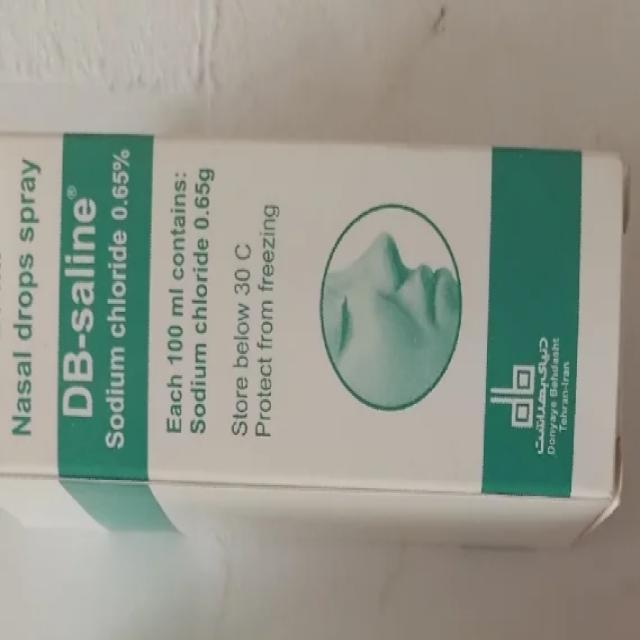drug-name: (60, 182, 103, 423)
